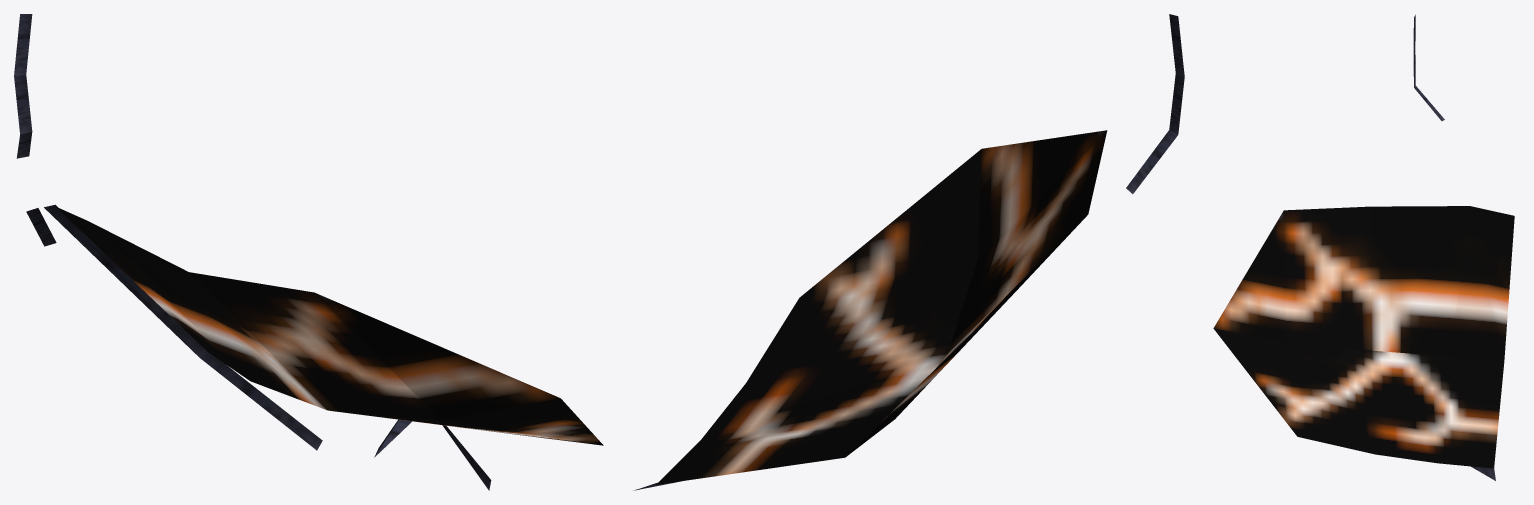
The picture shows the model from 3 angles, left to right: view 1: azimuth 30°, elevation 25°; view 2: azimuth 150°, elevation 25°; view 3: azimuth 270°, elevation 25°; orthographic projection. The views are drawn at different scales.
Parts seen in each view (by area): view 1: B_0075_2b_1, B_0075_2b_0; view 2: B_0075_2b_1, B_0075_2b_0; view 3: B_0075_2b_1, B_0075_2b_0.
Boxes of the visible parts, x1,y1,x2,y2 form: B_0075_2b_1: (56, 207, 603, 445); B_0075_2b_0: (14, 14, 491, 490); B_0075_2b_1: (656, 130, 1107, 484); B_0075_2b_0: (634, 14, 1184, 490); B_0075_2b_1: (1213, 206, 1514, 468); B_0075_2b_0: (1413, 14, 1495, 480).
Bounding box in the file's own units: 2.6 × 2.93 × 2.36.
Materials: 2 (2 with a texture image).
